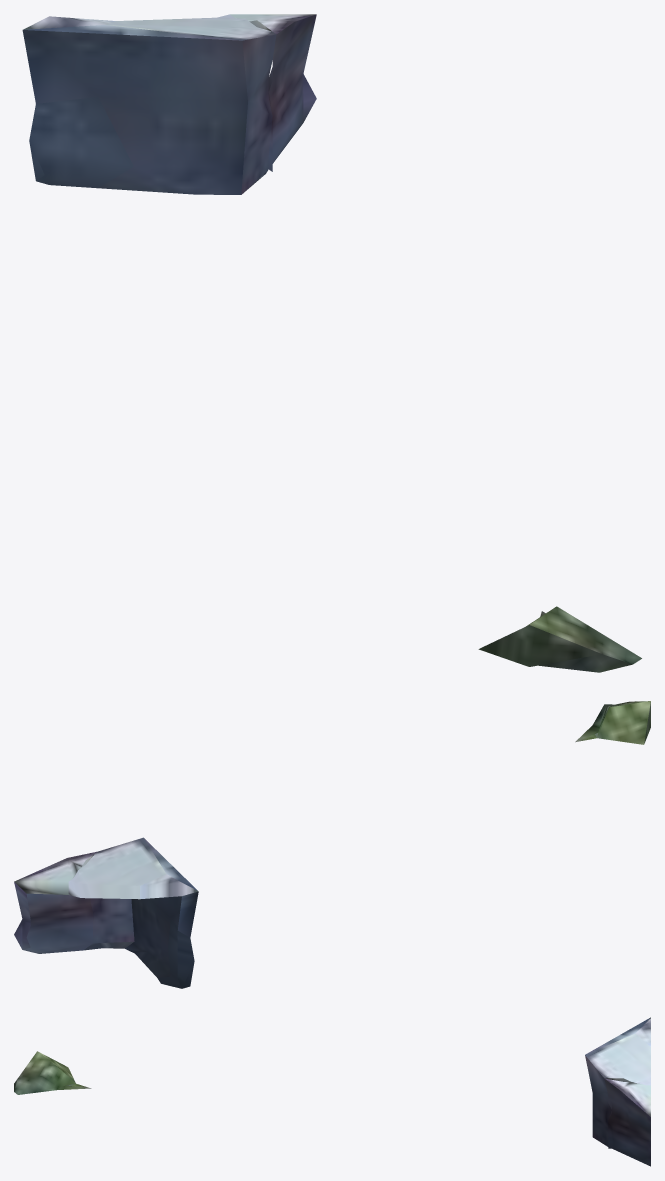
3 views of the same model, one above another, from view 1: azimuth 30°, elevation 25°; view 2: azimuth 150°, elevation 25°; view 3: azimuth 270°, elevation 25° (orthographic). The views are drawn at different scales.
Parts seen in each view (by area): view 1: 30436272704370624424_0; view 2: 30436272704370624424_0; view 3: 30436272704370624424_0.
Boxes of the visible parts, <box> form: 30436272704370624424_0: <box>22,14,641,672</box>; 30436272704370624424_0: <box>14,701,650,988</box>; 30436272704370624424_0: <box>14,1017,650,1166</box>.
Bounding box in the file's own units: 9.66 × 3.7 × 25.3.
Materials: 1 (1 with a texture image).
